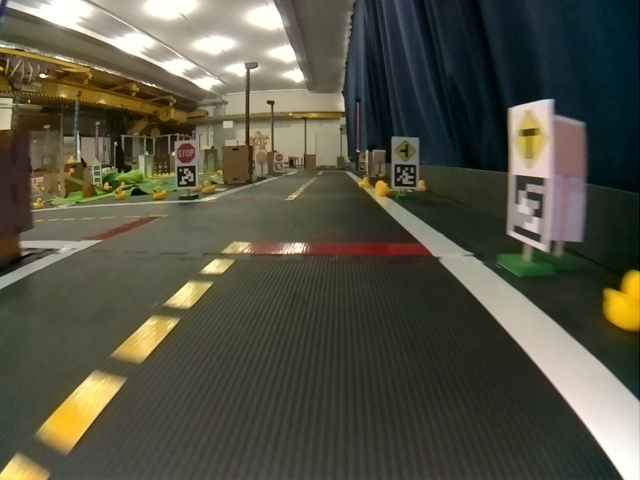Duckie: (604, 268, 638, 328), (376, 181, 388, 197), (152, 188, 162, 198), (359, 176, 368, 186), (33, 198, 42, 208), (203, 181, 211, 192), (115, 189, 125, 197)
Intersection sign: (510, 106, 551, 165), (393, 139, 418, 163)
QR code: (509, 175, 549, 244), (393, 165, 417, 188), (177, 169, 194, 186)
Stop sign: (177, 143, 193, 162)
